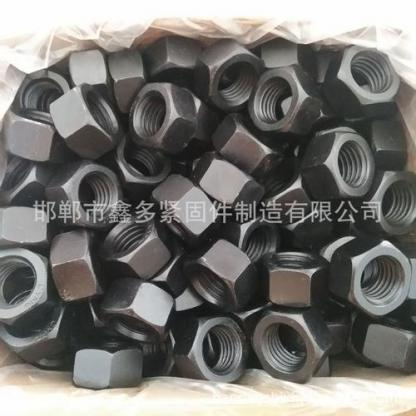FOD: (330, 234, 414, 318), (250, 310, 334, 383), (301, 129, 378, 204), (247, 61, 320, 139), (39, 162, 126, 227), (125, 79, 202, 152), (100, 210, 174, 284), (172, 312, 248, 384), (326, 44, 404, 114), (47, 80, 119, 154), (182, 237, 253, 308), (0, 247, 53, 330), (256, 246, 328, 306)
